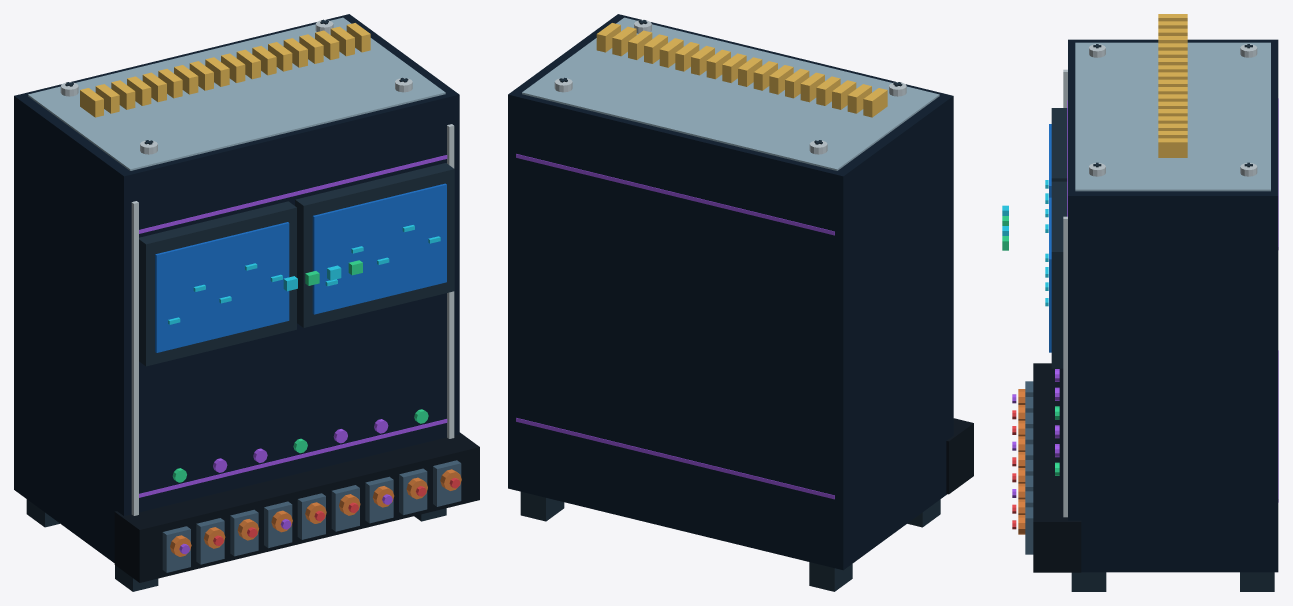
Rendered from 61_L79_PrecisionAnalogIOModule.fbx.
The picture shows the model from 3 angles, left to right: view 1: azimuth 30°, elevation 25°; view 2: azimuth 150°, elevation 25°; view 3: azimuth 270°, elevation 25°; orthographic projection. The views are drawn at different scales.
Visible parts, largest first — view 1: PrecisionAnalogIOModule; view 2: PrecisionAnalogIOModule; view 3: PrecisionAnalogIOModule.
Part boxes in pixels (box(x1,y1,x2,y2)): PrecisionAnalogIOModule: box(14, 14, 479, 591); PrecisionAnalogIOModule: box(508, 14, 973, 591); PrecisionAnalogIOModule: box(1002, 14, 1278, 591).
Bounding box in the file's own units: 141 × 180 × 104.
